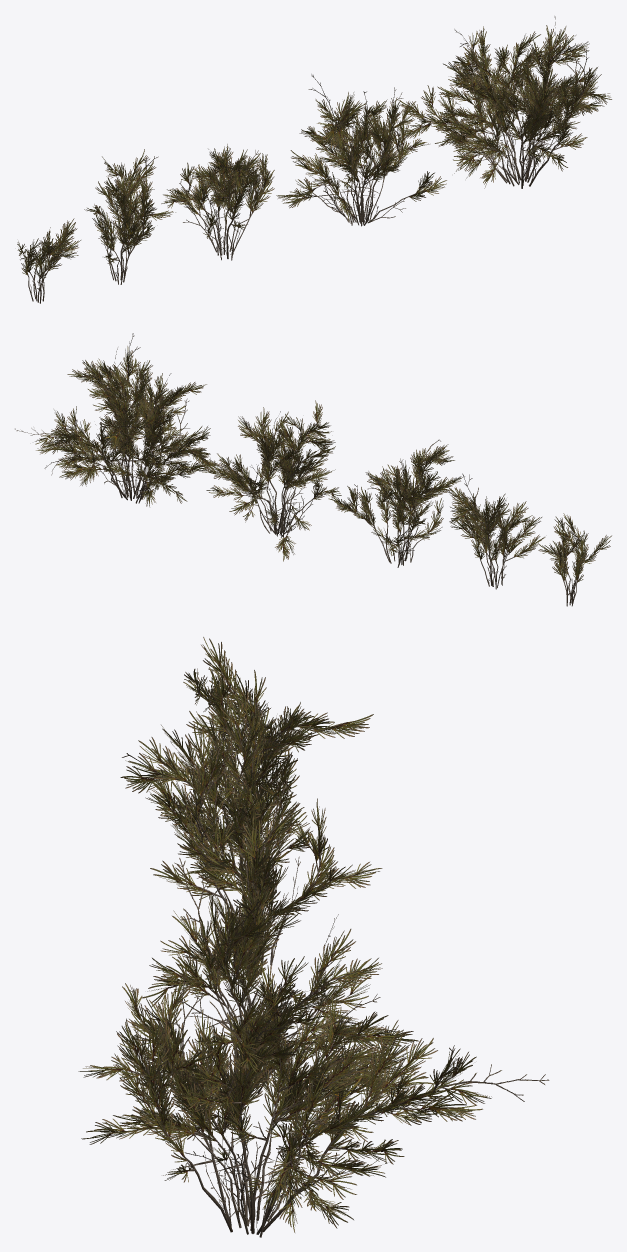
File: wild_rooibos_bush.glb
3 views of the same model, one above another, from view 1: azimuth 30°, elevation 25°; view 2: azimuth 150°, elevation 25°; view 3: azimuth 270°, elevation 25° (orthographic). The views are drawn at different scales.
Parts seen in each view (by area): view 1: wild_rooibos_bush_a, wild_rooibos_bush_b, wild_rooibos_bush_c, wild_rooibos_bush_d, wild_rooibos_bush_e; view 2: wild_rooibos_bush_a, wild_rooibos_bush_b, wild_rooibos_bush_c, wild_rooibos_bush_d, wild_rooibos_bush_e; view 3: wild_rooibos_bush_a, wild_rooibos_bush_b, wild_rooibos_bush_c, wild_rooibos_bush_d, wild_rooibos_bush_e.
Boxes of the visible parts, x1=… form: wild_rooibos_bush_a: x1=397, y1=16, x2=611, y2=188; wild_rooibos_bush_b: x1=276, y1=74, x2=446, y2=226; wild_rooibos_bush_c: x1=161, y1=144, x2=274, y2=260; wild_rooibos_bush_d: x1=84, y1=149, x2=175, y2=284; wild_rooibos_bush_e: x1=17, y1=218, x2=80, y2=303; wild_rooibos_bush_a: x1=15, y1=333, x2=221, y2=506; wild_rooibos_bush_b: x1=202, y1=400, x2=341, y2=561; wild_rooibos_bush_c: x1=328, y1=439, x2=464, y2=567; wild_rooibos_bush_d: x1=447, y1=473, x2=545, y2=589; wild_rooibos_bush_e: x1=538, y1=513, x2=611, y2=606; wild_rooibos_bush_a: x1=78, y1=960, x2=549, y2=1237; wild_rooibos_bush_b: x1=133, y1=779, x2=388, y2=1093; wild_rooibos_bush_c: x1=120, y1=720, x2=382, y2=974; wild_rooibos_bush_d: x1=161, y1=670, x2=373, y2=869; wild_rooibos_bush_e: x1=183, y1=637, x2=270, y2=794.
Bounding box in the file's own units: 2.28 × 0.5413 × 0.8434.
Materials: 1 (1 with a texture image).
